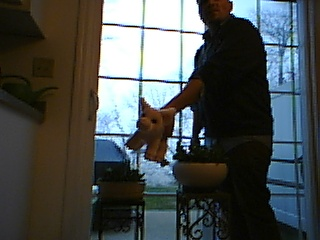piggy: (124, 96, 177, 165)
